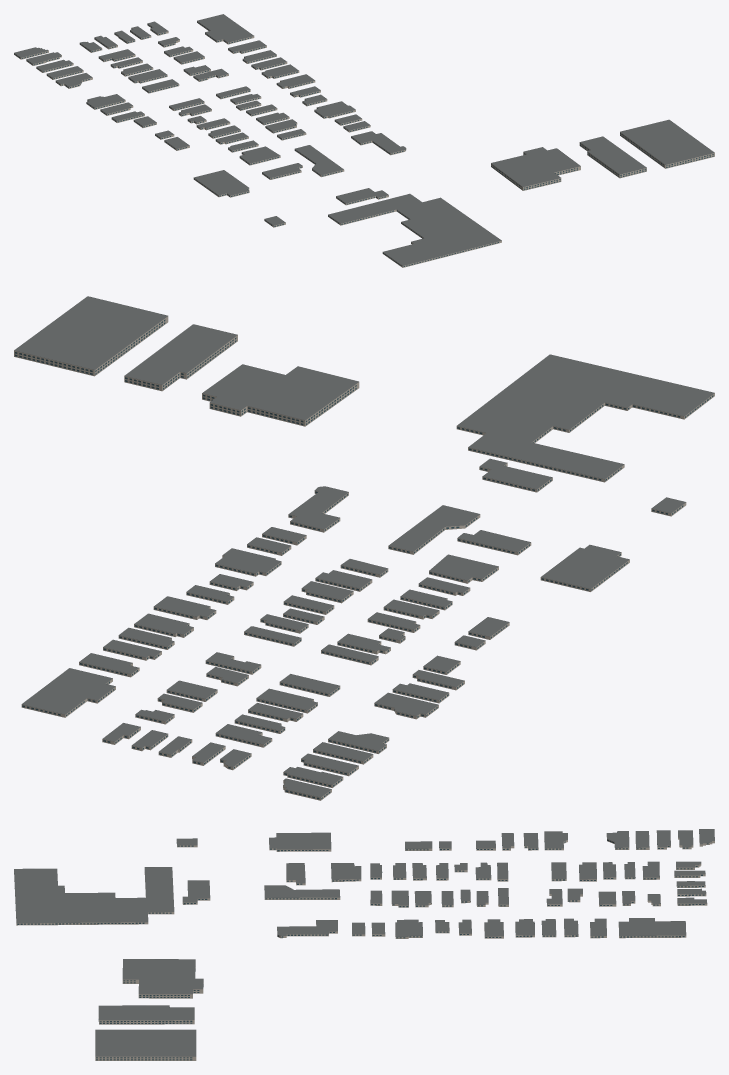
3 views of the same model, one above another, from view 1: azimuth 30°, elevation 25°; view 2: azimuth 150°, elevation 25°; view 3: azimuth 270°, elevation 25° (orthographic). The views are drawn at different scales.
Parts seen in each view (by area): view 1: Buildings (-2, -9) Roof membrane, Buildings (-2, -9) Masonry brick, Buildings (-2, -9) Architectural tinted glass; view 2: Buildings (-2, -9) Roof membrane, Buildings (-2, -9) Masonry brick, Buildings (-2, -9) Architectural tinted glass, Buildings (-2, -9) Metal coping; view 3: Buildings (-2, -9) Roof membrane, Buildings (-2, -9) Masonry brick, Buildings (-2, -9) Architectural tinted glass, Buildings (-2, -9) Metal coping.
Boxes of the visible parts, bbox=[...] form: Buildings (-2, -9) Roof membrane: bbox=[14, 14, 714, 265]; Buildings (-2, -9) Masonry brick: bbox=[14, 21, 714, 267]; Buildings (-2, -9) Architectural tinted glass: bbox=[14, 22, 713, 266]; Buildings (-2, -9) Roof membrane: bbox=[14, 296, 714, 797]; Buildings (-2, -9) Masonry brick: bbox=[14, 316, 714, 800]; Buildings (-2, -9) Architectural tinted glass: bbox=[15, 319, 713, 799]; Buildings (-2, -9) Metal coping: bbox=[14, 296, 711, 797]; Buildings (-2, -9) Roof membrane: bbox=[14, 829, 714, 1056]; Buildings (-2, -9) Masonry brick: bbox=[14, 831, 714, 1060]; Buildings (-2, -9) Architectural tinted glass: bbox=[14, 832, 708, 1060]; Buildings (-2, -9) Metal coping: bbox=[23, 829, 711, 1056].
Bounding box in the file's own units: 777 × 7.65 × 1006.
